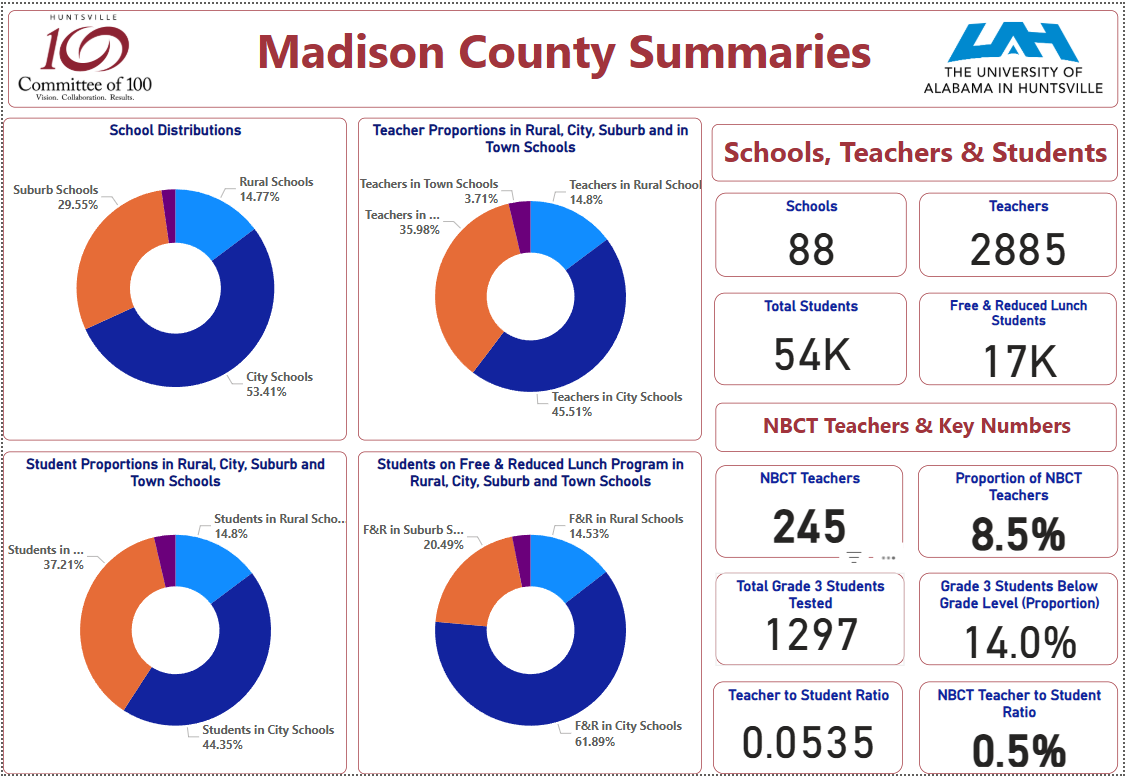

The page's visual inventory and layout, read from the dashboard file:
{"tool":"powerbi","page":{"name":"Madison, AL Summaries","canvas":[1280,880],"ordinal":1},"visuals":[{"type":"image","box":[5.7,7.1,175.7,107.1],"z":0,"group":"g1"},{"type":"donutChart","title":"School Distributions","fields":{"Y":["Sum(AL_comp Absolute Numbers.Total Rural Schools )","Sum(AL_comp Absolute Numbers.Total City Schools)","Sum(AL_comp Absolute Numbers.Total Suburb Schools)","Sum(AL_comp Absolute Numbers.Total Town Schools)"]},"box":[0,130.6,392.5,368.8],"z":0},{"type":"image","box":[1028.6,15.7,251.4,91.4],"z":1000,"group":"g1"},{"type":"donutChart","title":"Teacher Proportions in Rural, City, Suburb and in Town Schools","fields":{"Y":["Sum(AL_comp Absolute Numbers.Total Teachers in Rural)","Sum(AL_comp Absolute Numbers.Total Teachers in City)","Sum(AL_comp Absolute Numbers.Total Teachers in Suburb)","Sum(AL_comp Absolute Numbers.Total Teachers in Town)"]},"box":[405.5,130.7,392.9,368.6],"z":1000},{"type":"donutChart","title":"Student Proportions in Rural, City, Suburb and Town Schools","fields":{"Y":["Sum(AL_comp Absolute Numbers.Total Students in Rural)","Sum(AL_comp Absolute Numbers.Total Students in City)","Sum(AL_comp Absolute Numbers.Total Students in Suburb)","Sum(AL_comp Absolute Numbers.Total Students in Town)"]},"box":[0,511.4,392.9,368.6],"z":2000},{"type":"donutChart","title":"Students on Free & Reduced Lunch Program in Rural, City, Suburb and Town Schools","fields":{"Y":["Sum(AL_comp Absolute Numbers.Total F&R in Rural)","Sum(AL_comp Absolute Numbers.Total F&R in City)","Sum(AL_comp Absolute Numbers.Total F&R in Suburb)","Sum(AL_comp Absolute Numbers.Total F&R in Town)"]},"box":[405.7,511.4,392.9,368.6],"z":3000},{"type":"textbox","box":[5.7,7.1,1268.6,111.4],"z":4000},{"type":"card","title":"Schools","fields":{"Values":["Sum(AL_comp Absolute Numbers.Total Schools)"]},"box":[814.3,215.7,218.6,95.7],"z":5000},{"type":"card","title":"Total Students","fields":{"Values":["Sum(AL_comp Absolute Numbers.Total Students)"]},"box":[812.9,330,220,105.7],"z":6000},{"type":"card","title":"Teachers","fields":{"Values":["Sum(AL_comp Absolute Numbers.Total Teachers)"]},"box":[1046.9,215.9,225.7,95.7],"z":7000},{"type":"card","title":"NBCT Teachers","fields":{"Values":["Sum(AL_comp Absolute Numbers.NBCT Teachers)"]},"box":[814.3,527.1,214.3,105.7],"z":8000},{"type":"card","title":"Free & Reduced Lunch Students","fields":{"Values":["Sum(AL_comp Absolute Numbers.Total F&R Lunch Students)"]},"box":[1047.1,329.6,225.7,105.7],"z":9000},{"type":"card","title":"Total Grade 3 Students Tested","fields":{"Values":["Sum(AL_comp Absolute Numbers.Grade 3 Students Tested)"]},"box":[814.3,650,215.7,105.7],"z":10000},{"type":"card","title":"Grade 3 Students Below Grade Level (Proportion)","fields":{"Values":["Sum(Proportions Comp.Percentage of County's Grade 3 Students Below Grade Level)"]},"box":[1047.1,650.6,227.1,105.7],"z":11000},{"type":"card","title":"Proportion of NBCT Teachers","fields":{"Values":["Sum(Proportions Comp.NBCT to Teacher Ratio)"]},"box":[1045.7,526.9,228.6,105.7],"z":12000},{"type":"card","title":"NBCT Teacher to Student Ratio","fields":{"Values":["Sum(Proportions Comp.NBCT Teacher to Student Ratio)"]},"box":[1047.1,774.3,227.1,105.7],"z":13000},{"type":"card","title":"Teacher to Student Ratio","fields":{"Values":["Sum(Proportions Comp.Teacher to Student Ratio)"]},"box":[811.4,774.3,217.1,105.7],"z":14000},{"type":"textbox","box":[810,136.5,464.3,65.7],"z":15000},{"type":"textbox","box":[814.3,456.1,458.6,55.7],"z":16000},{"type":"group","id":"g1","title":"Group 1","box":[5.7,7.1,1274.3,107.1],"z":17000}]}

Visuals, with their boxes in screenshot pixels (x1, y1, x2, y2), scaled from the page's 1280x880 canvas onto the 1126x777 screenshot:
image: locate(5, 6, 160, 101)
"School Distributions" donutChart: locate(0, 115, 345, 441)
image: locate(905, 14, 1125, 95)
"Teacher Proportions in Rural, City, Suburb and in Town Schools" donutChart: locate(357, 115, 702, 441)
"Student Proportions in Rural, City, Suburb and Town Schools" donutChart: locate(0, 452, 346, 776)
"Students on Free & Reduced Lunch Program in Rural, City, Suburb and Town Schools" donutChart: locate(357, 452, 703, 776)
textbox: locate(5, 6, 1121, 105)
"Schools" card: locate(716, 190, 909, 275)
"Total Students" card: locate(715, 291, 909, 385)
"Teachers" card: locate(921, 191, 1119, 275)
"NBCT Teachers" card: locate(716, 465, 905, 559)
"Free & Reduced Lunch Students" card: locate(921, 291, 1120, 384)
"Total Grade 3 Students Tested" card: locate(716, 574, 906, 667)
"Grade 3 Students Below Grade Level (Proportion)" card: locate(921, 574, 1121, 668)
"Proportion of NBCT Teachers" card: locate(920, 465, 1121, 559)
"NBCT Teacher to Student Ratio" card: locate(921, 684, 1121, 776)
"Teacher to Student Ratio" card: locate(714, 684, 905, 776)
textbox: locate(713, 121, 1121, 179)
textbox: locate(716, 403, 1120, 452)
"Group 1" group: locate(5, 6, 1125, 101)
